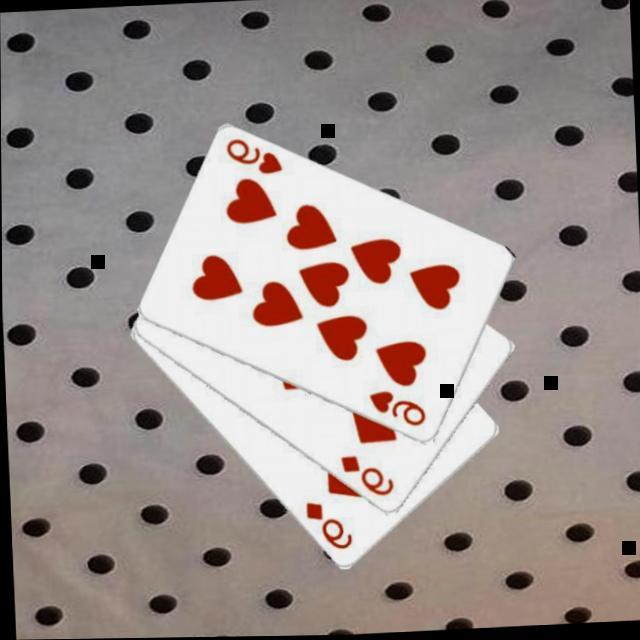6D: (303, 498, 357, 557), (338, 452, 398, 504)
9H: (366, 388, 431, 433), (224, 134, 287, 180)
